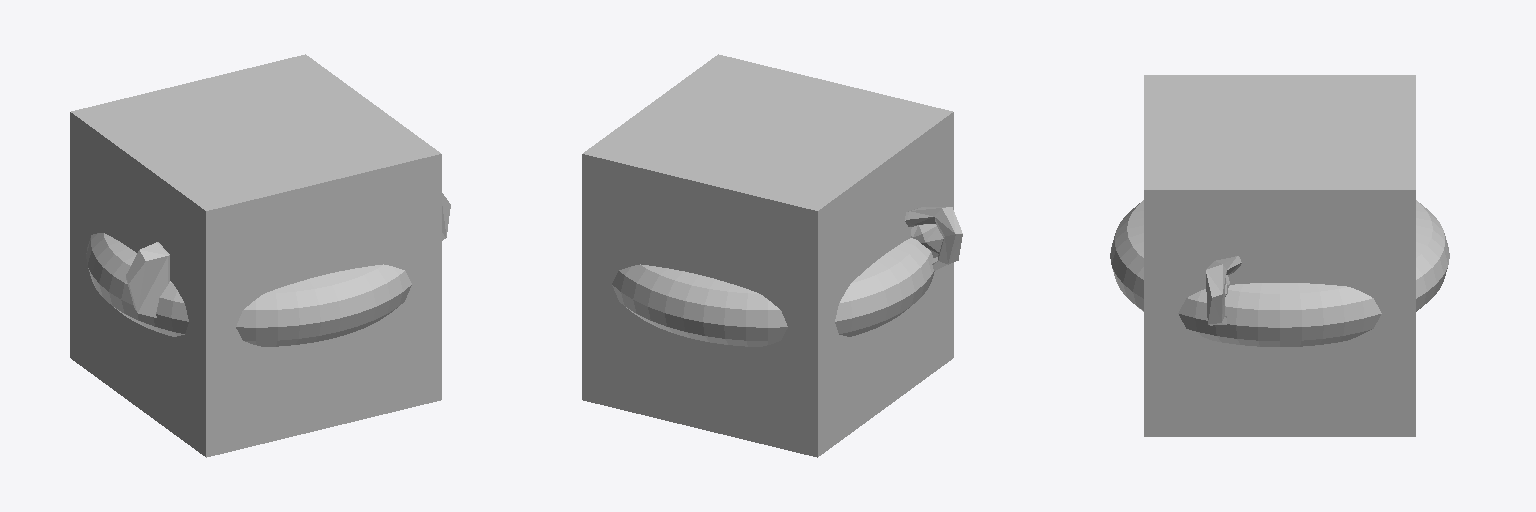
File: PrimativesTextured.obj
The picture shows the model from 3 angles: view 1: azimuth 30°, elevation 25°; view 2: azimuth 150°, elevation 25°; view 3: azimuth 270°, elevation 25°; orthographic projection.
Visible parts, largest first — view 1: Cube, Cylinder, Torus, Suzanne; view 2: Cube, Torus, Cylinder, Suzanne; view 3: Cube, Cylinder, Torus, Suzanne.
Part boxes in pixels (left/top/right/bottom): Cube: left=70, top=54, right=441, bottom=457; Cylinder: left=121, top=75, right=389, bottom=189; Torus: left=86, top=233, right=411, bottom=346; Suzanne: left=126, top=193, right=450, bottom=317; Cube: left=582, top=54, right=953, bottom=457; Torus: left=612, top=238, right=934, bottom=346; Cylinder: left=634, top=75, right=902, bottom=189; Suzanne: left=905, top=207, right=962, bottom=270; Cube: left=1144, top=75, right=1415, bottom=436; Cylinder: left=1145, top=75, right=1414, bottom=187; Torus: left=1110, top=200, right=1449, bottom=346; Suzanne: left=1206, top=256, right=1241, bottom=325.
Size of the model in its own units: 2.73 by 2 by 2.5.